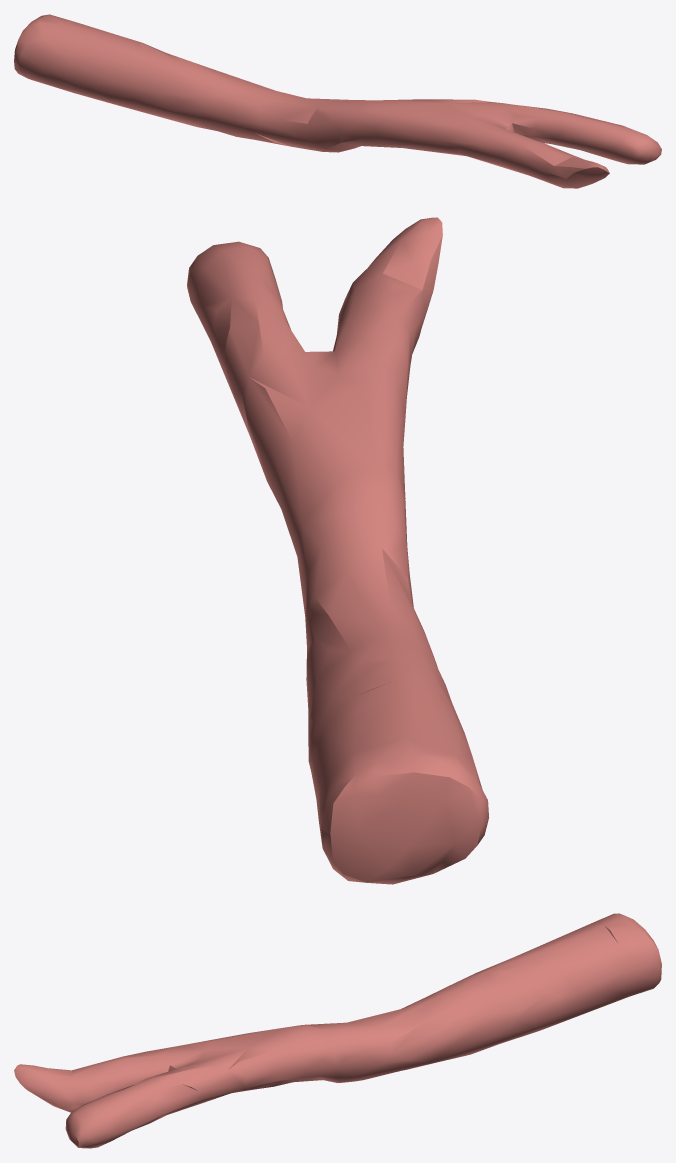
File: fma223220_mm1752.glb
The picture shows the model from 3 angles, top to bottom: view 1: azimuth 30°, elevation 25°; view 2: azimuth 150°, elevation 25°; view 3: azimuth 270°, elevation 25°; orthographic projection. The views are drawn at different scales.
Visible parts, largest first — view 1: FMA223220_MM1752; view 2: FMA223220_MM1752; view 3: FMA223220_MM1752.
Boxes of the visible parts, x1,y1,x2,y2 form: FMA223220_MM1752: (14, 14, 661, 188); FMA223220_MM1752: (187, 217, 488, 884); FMA223220_MM1752: (14, 913, 661, 1148).
Size of the model in its own units: 0.0326 by 0.00607 by 0.0433.
